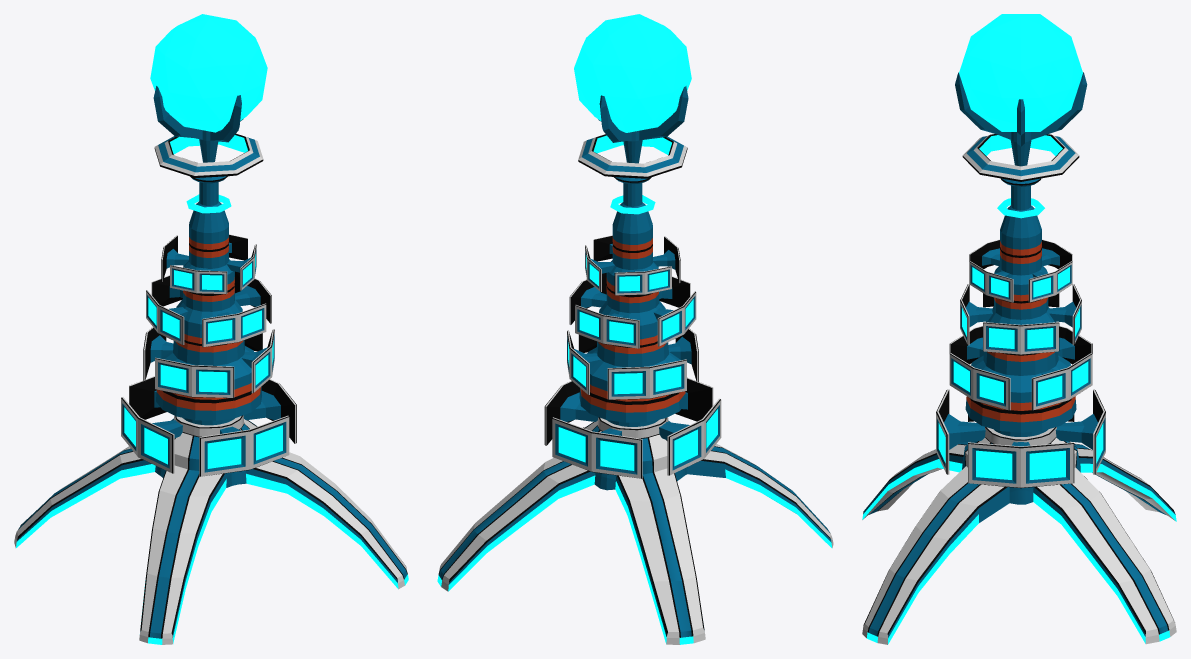
File: Башня без анимации.fbx
The picture shows the model from 3 angles, left to right: view 1: azimuth 30°, elevation 25°; view 2: azimuth 150°, elevation 25°; view 3: azimuth 270°, elevation 25°; orthographic projection. The views are drawn at different scales.
Visible parts, largest first — view 1: Cube.012, Cylinder.001, Цилиндр, Cylinder.008, Cylinder.003, Cylinder.002, Cylinder.004, Тор.002, Цилиндр.004; view 2: Cube.012, Cylinder.001, Цилиндр, Cylinder.008, Cylinder.003, Cylinder.002, Cylinder.004, Тор.002, Цилиндр.004; view 3: Cube.012, Cylinder.001, Цилиндр, Cylinder.008, Cylinder.002, Cylinder.003, Cylinder.004, Тор.002, Цилиндр.004, Тор.005.
Boxes of the visible parts, x1,y1,x2,y2 form: Cube.012: (14,415,408,644); Cylinder.001: (150,14,267,132); Цилиндр: (156,130,261,425); Cylinder.008: (121,376,296,476); Cylinder.003: (146,271,271,347); Cylinder.002: (143,327,274,397); Cylinder.004: (161,234,256,294); Тор.002: (154,133,263,177); Цилиндр.004: (153,86,243,142); Cube.012: (437,417,833,644); Cylinder.001: (574,14,691,132); Цилиндр: (579,131,686,426); Cylinder.008: (544,377,721,478); Cylinder.003: (569,273,696,348); Cylinder.002: (567,328,698,399); Cylinder.004: (585,235,680,295); Тор.002: (578,134,687,178); Цилиндр.004: (598,86,688,142); Cube.012: (862,427,1176,644); Cylinder.001: (959,14,1082,131); Цилиндр: (965,132,1076,436); Cylinder.008: (936,389,1105,488); Cylinder.002: (949,326,1092,410); Cylinder.003: (960,284,1081,354); Cylinder.004: (969,239,1072,302); Тор.002: (962,134,1079,181); Цилиндр.004: (955,72,1087,146); Тор.005: (997,198,1044,218).
Size of the model in its own units: 516 by 996 by 506.
